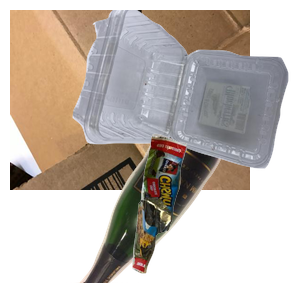cardboard: (10, 10, 250, 190)
glass: (66, 120, 279, 300)
plastic: (70, 10, 300, 171)
trash: (130, 131, 300, 300)
